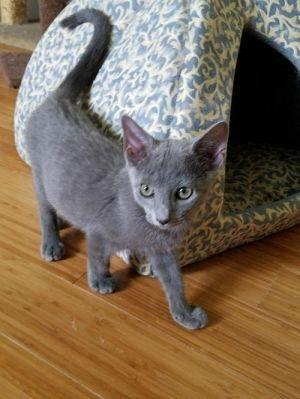rblue: (106, 109, 233, 240)
